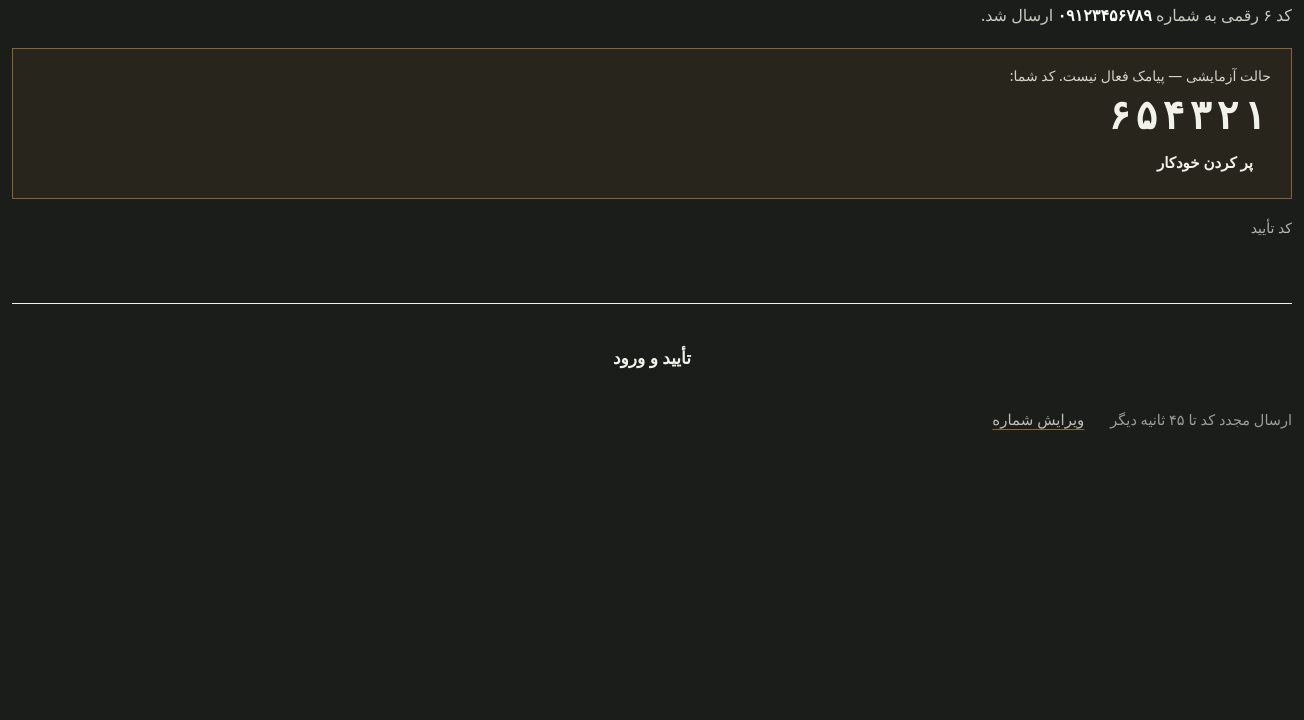
it: OtpVerify › shows the attempts left after a wrong code
In the field named "کد تأیید ۶ رقمی": point(652, 274) [12,244,1292,304], type "000000"
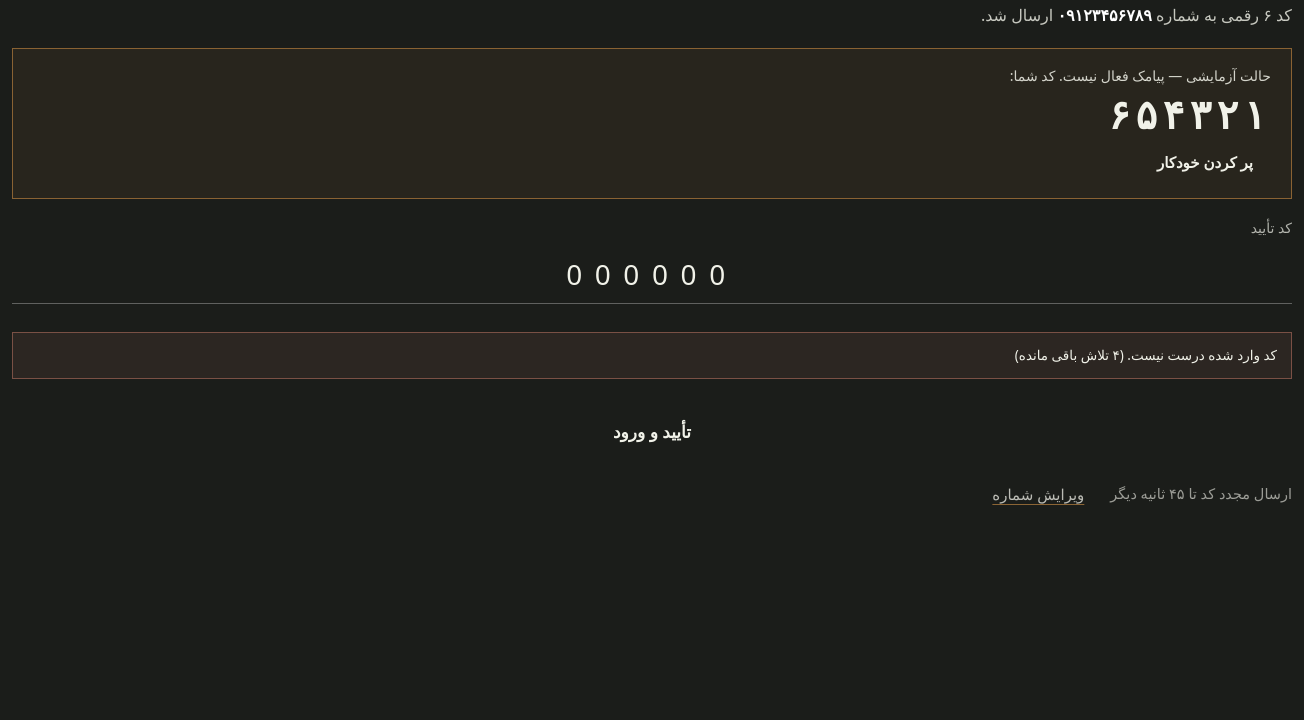
Expected: the text "کد وارد شده درست نیست. (۴ تلاش باقی مانده)" is shown, [12,332,1292,379]
